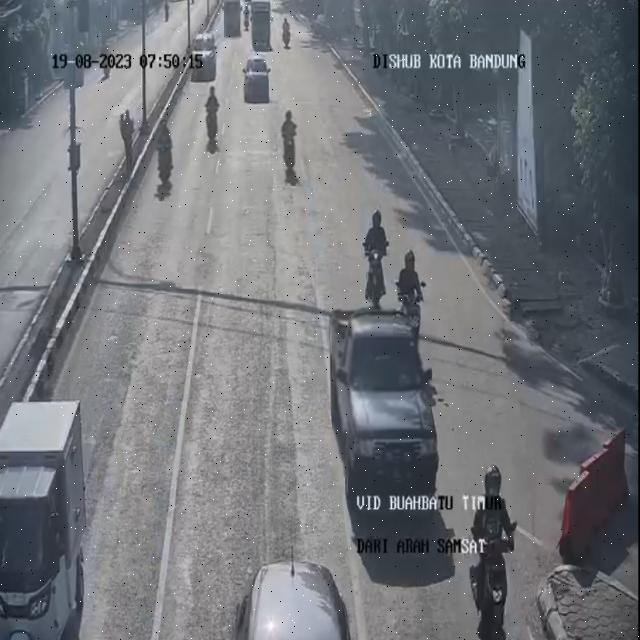cars: (0, 389, 91, 639), (332, 302, 432, 478), (240, 562, 358, 640), (192, 31, 220, 86), (244, 52, 273, 100), (250, 1, 272, 53), (224, 0, 240, 40)
d: (278, 110, 307, 186)
motorcycle: (465, 460, 514, 637), (362, 205, 392, 302), (393, 250, 423, 336), (153, 118, 177, 201), (204, 80, 222, 152), (278, 15, 294, 54)
